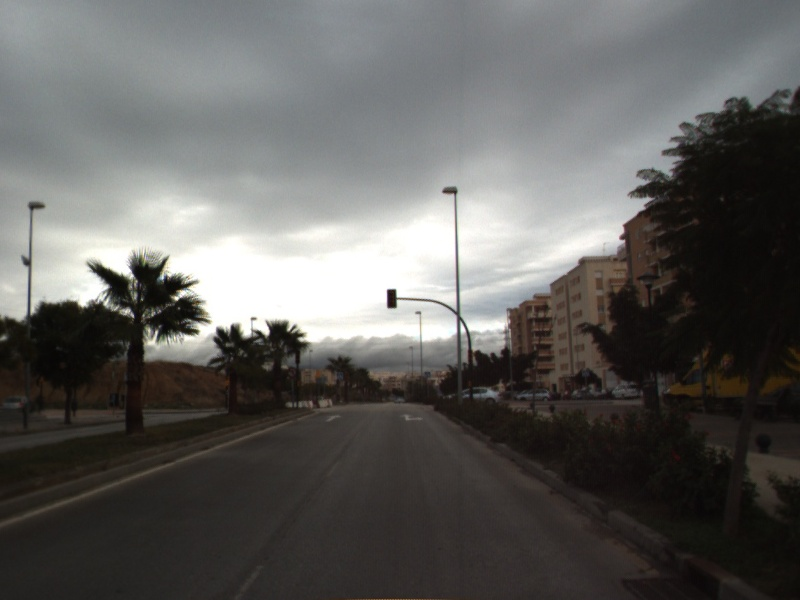STRAIGHT: (323, 412, 344, 424)
STRAIGHT_RIGHT: (398, 412, 425, 423)
